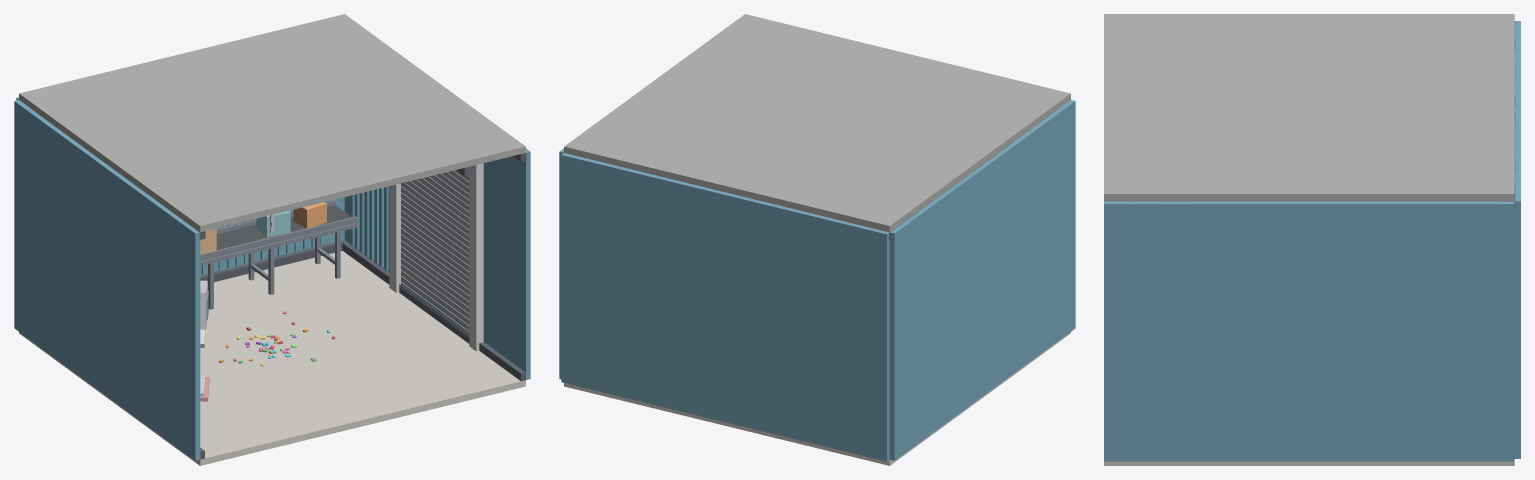
File: WarehouseRoom.fbx
3 renders of one model, left to right at view 1: azimuth 30°, elevation 25°; view 2: azimuth 150°, elevation 25°; view 3: azimuth 270°, elevation 25°, orthographic. The views are drawn at different scales.
Parts seen in each view (by area): view 1: Warehouse_Ceiling, Wall_Left_Base, Warehouse_Floor, Wall_Right_Base, Shutter_Slats, Hazard_Frame_L, Ribs_Right_Back, Trim_Floor_Right, Hazard_Frame_R, Conveyor_Surface, Trim_Floor_Back, Conveyor_Rail_F (+6 smaller); view 2: Wall_Back_Base, Warehouse_Ceiling, Wall_Left_Base, Warehouse_Floor, Wall_Right_Base; view 3: Wall_Right_Base, Warehouse_Ceiling, Wall_Back_Base, Warehouse_Floor.
Part boxes in pixels (x1,y1,x2,y2): Warehouse_Ceiling: (19,14,525,232); Wall_Left_Base: (14,100,200,460); Warehouse_Floor: (19,251,525,465); Wall_Right_Base: (344,148,530,379); Shutter_Slats: (401,170,469,334); Hazard_Frame_L: (469,173,483,351); Ribs_Right_Back: (350,186,388,271); Trim_Floor_Right: (342,241,525,381); Hazard_Frame_R: (389,183,401,292); Conveyor_Surface: (207,205,351,259); Trim_Floor_Back: (200,240,346,283); Conveyor_Rail_F: (200,216,357,260); Wall_Back_Base: (561,153,889,461); Warehouse_Ceiling: (564,14,1070,232); Wall_Left_Base: (889,100,1075,460); Warehouse_Floor: (564,332,1070,465); Wall_Right_Base: (559,148,563,379); Wall_Right_Base: (1104,201,1514,461); Warehouse_Ceiling: (1104,14,1514,201); Wall_Back_Base: (1514,21,1520,458); Warehouse_Floor: (1104,461,1514,465).
Size of the model in its own units: 5.56 by 3.8 by 5.28.
